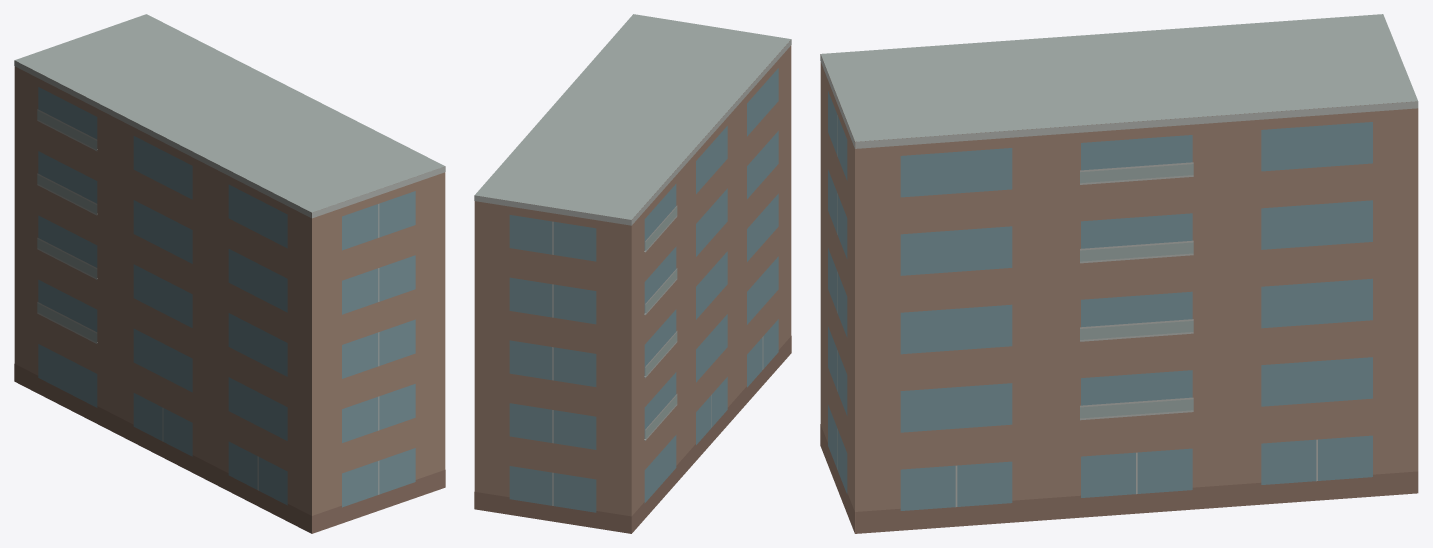
The model's file is survey-upis-32961937.glb.
The picture shows the model from 3 angles, left to right: view 1: azimuth 30°, elevation 25°; view 2: azimuth 150°, elevation 25°; view 3: azimuth 270°, elevation 25°; orthographic projection. The views are drawn at different scales.
Visible parts, largest first — view 1: survey-upis-32961937.tmp; view 2: survey-upis-32961937.tmp; view 3: survey-upis-32961937.tmp.
Part boxes in pixels (left/top/right/bottom): survey-upis-32961937.tmp: left=14, top=14, right=445, bottom=533; survey-upis-32961937.tmp: left=474, top=14, right=791, bottom=533; survey-upis-32961937.tmp: left=820, top=14, right=1418, bottom=533.
Bounding box in the file's own units: 9.38 × 13.4 × 18.53.
